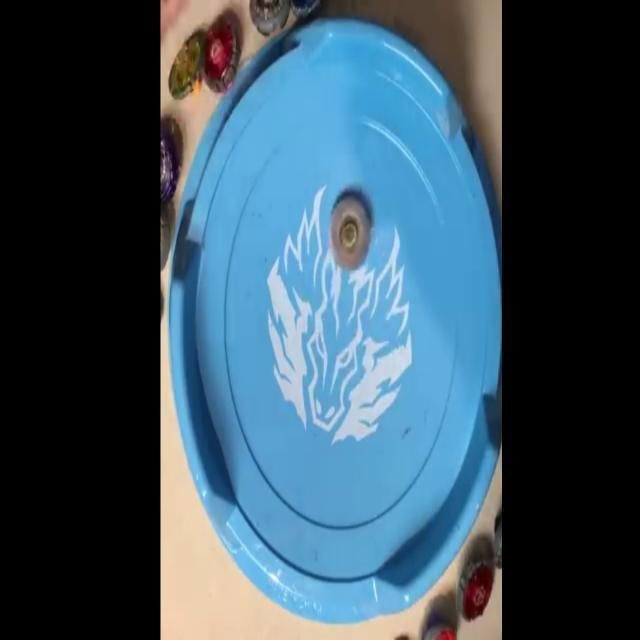Beyblade: (330, 196, 370, 270), (202, 17, 240, 93), (456, 556, 494, 620), (168, 35, 202, 100)
